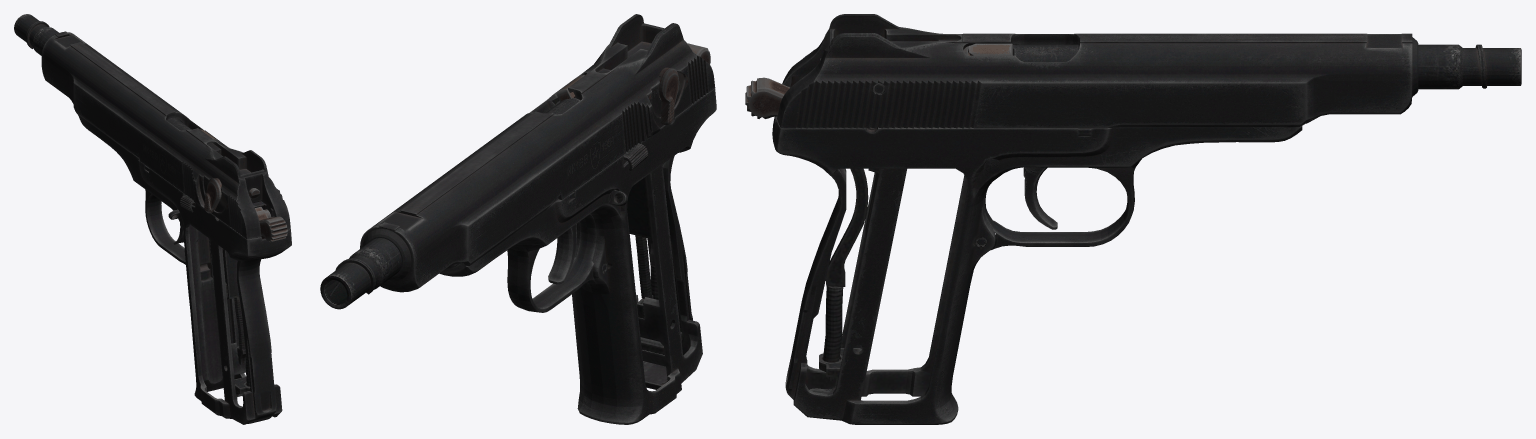
3 renders of one model, left to right at view 1: azimuth 30°, elevation 25°; view 2: azimuth 150°, elevation 25°; view 3: azimuth 270°, elevation 25°, orthographic. The views are drawn at different scales.
Visible parts, largest first — view 1: TW_5abccb7dd8ce87001773e277_PZ_Import; view 2: TW_5abccb7dd8ce87001773e277_PZ_Import; view 3: TW_5abccb7dd8ce87001773e277_PZ_Import.
Part boxes in pixels (box(x1,y1,x2,y2)): TW_5abccb7dd8ce87001773e277_PZ_Import: box(14, 14, 291, 424); TW_5abccb7dd8ce87001773e277_PZ_Import: box(320, 14, 716, 424); TW_5abccb7dd8ce87001773e277_PZ_Import: box(745, 14, 1521, 424).
Bounding box in the file's own units: 0.0182 × 0.1555 × 0.0857.
1 material, 1 textured.
